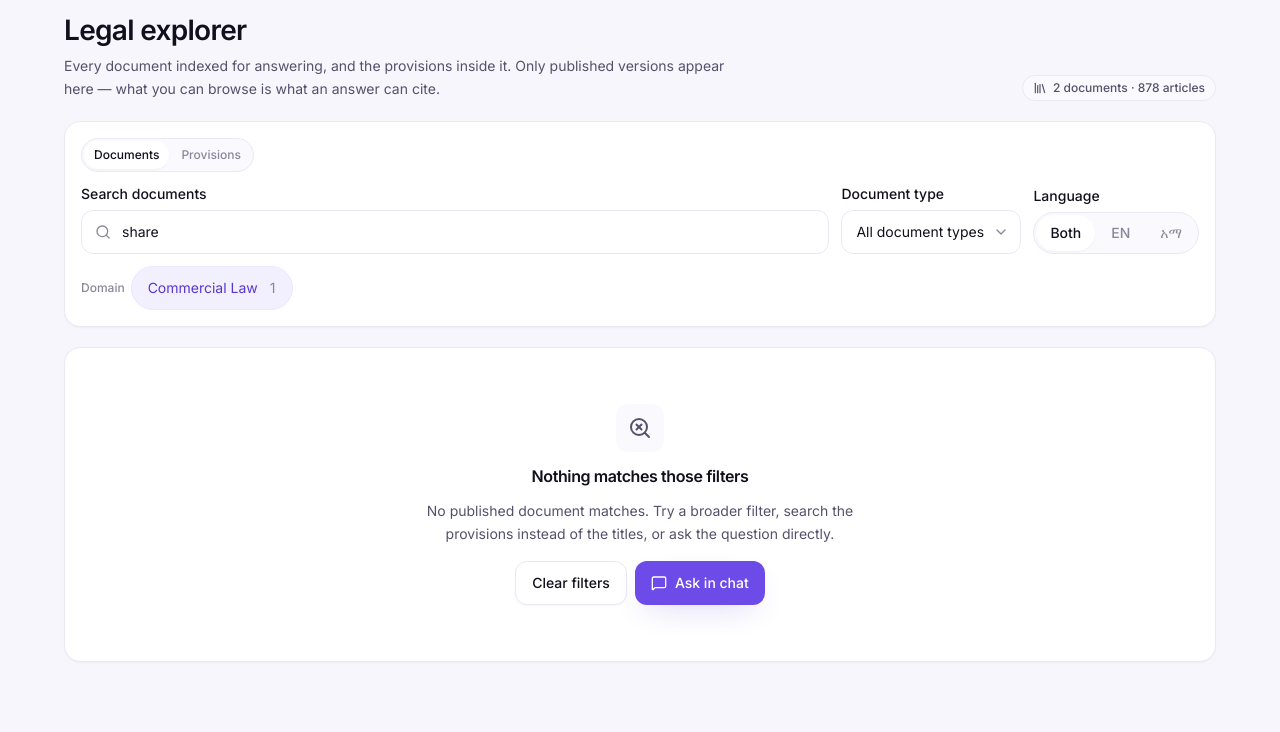
ExplorerPage provision search › switches scope through the URL so a search stays shareable
Click the radio button labelled "Provisions" at {"x": 211, "y": 155}, box [171,141,251,169]
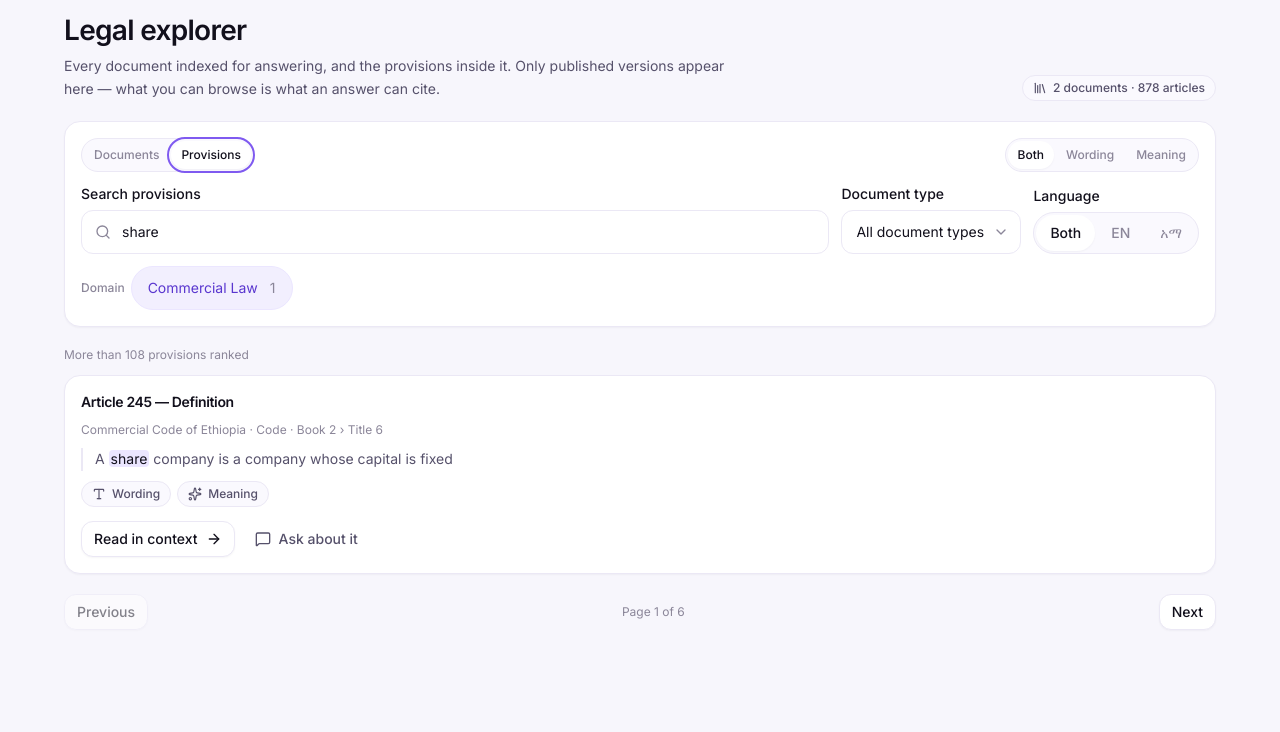
expect the heading "Article 245 — Definition" is shown: met, box [81,392,234,412]
